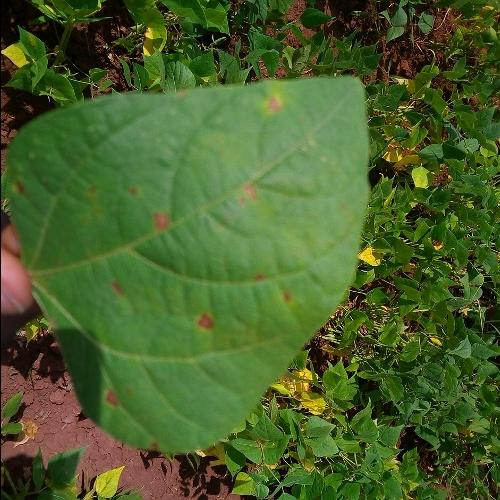hawar: (229, 168, 264, 214), (184, 306, 222, 337), (98, 378, 124, 418), (254, 92, 285, 123), (97, 275, 129, 304), (148, 207, 176, 239), (274, 290, 299, 308), (246, 269, 268, 282)
